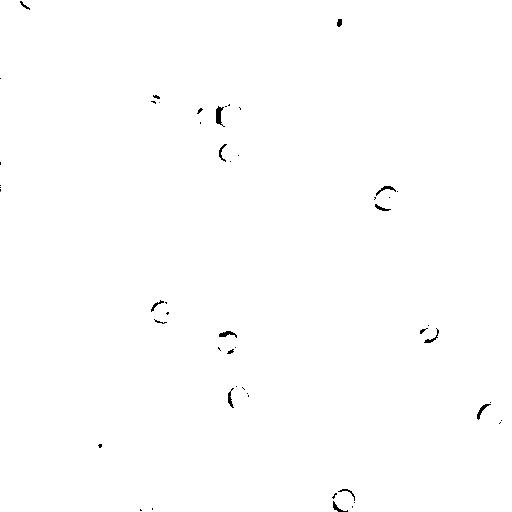micro-algae: (289, 93, 411, 211), (102, 401, 147, 442), (77, 420, 116, 464), (363, 1, 413, 34), (472, 397, 505, 435), (323, 4, 353, 38), (185, 97, 215, 131), (140, 2, 173, 31), (215, 99, 244, 130), (369, 185, 403, 211), (127, 490, 166, 511), (150, 297, 179, 324), (226, 383, 251, 414), (327, 486, 358, 511), (215, 329, 240, 356), (414, 321, 441, 345), (216, 140, 243, 163), (17, 0, 46, 11), (365, 0, 393, 11)
